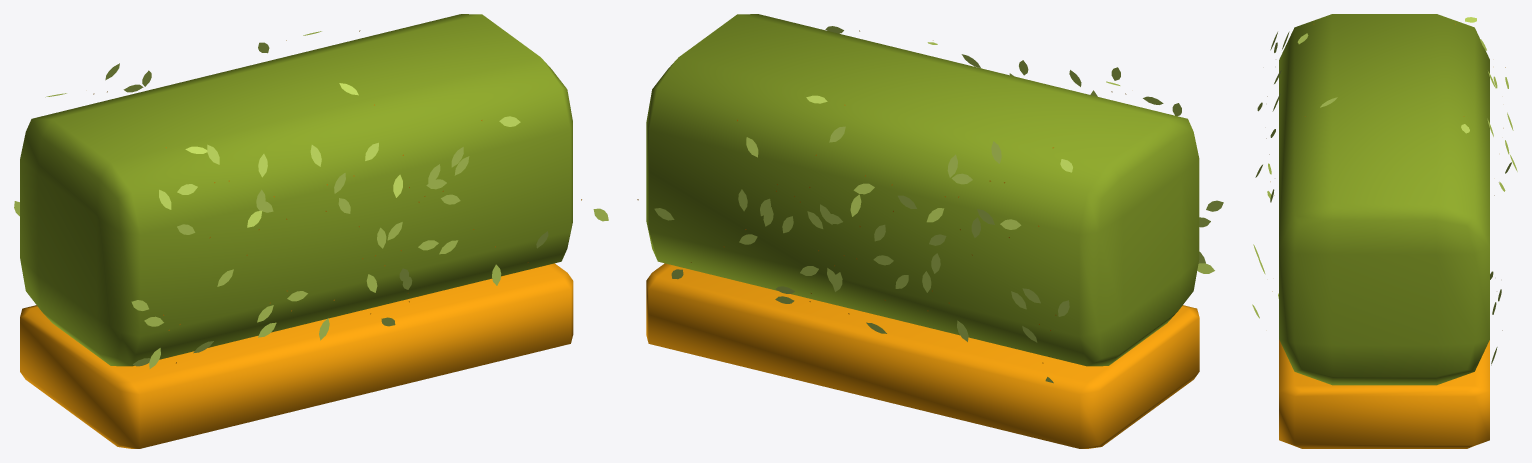
Rendered from Hedge Model.fbx.
3 views of the same model, side by side, from view 1: azimuth 30°, elevation 25°; view 2: azimuth 150°, elevation 25°; view 3: azimuth 270°, elevation 25° (orthographic). The views are drawn at different scales.
Parts seen in each view (by area): view 1: Plane - copy.001 Duplicator|Plane - copy.001 - copy|Dupli|83; view 2: Plane - copy.001 Duplicator|Plane - copy.001 - copy|Dupli|83; view 3: Plane - copy.001 Duplicator|Plane - copy.001 - copy|Dupli|83.
Part boxes in pixels (bbox=[...]): Plane - copy.001 Duplicator|Plane - copy.001 - copy|Dupli|83: bbox=[14, 14, 608, 448]; Plane - copy.001 Duplicator|Plane - copy.001 - copy|Dupli|83: bbox=[637, 14, 1223, 448]; Plane - copy.001 Duplicator|Plane - copy.001 - copy|Dupli|83: bbox=[1252, 14, 1517, 448].
Bounding box in the file's own units: 450 × 262 × 242.
